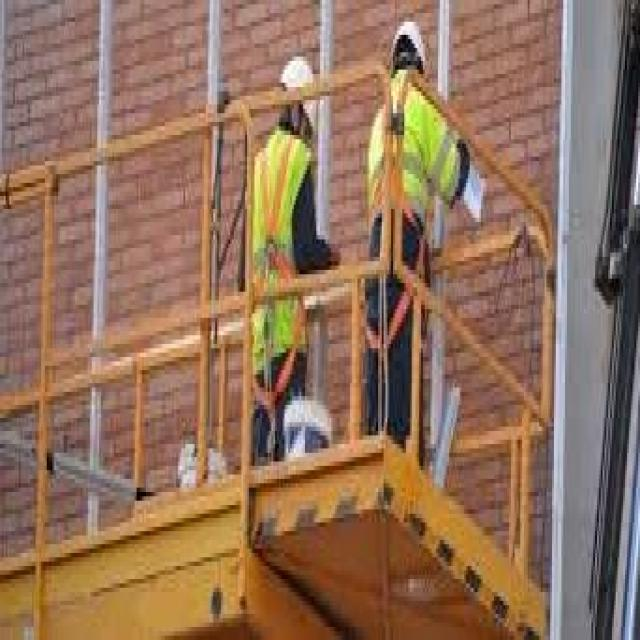Reflective-Jacket: (358, 78, 462, 296), (243, 122, 324, 374)
Safety-Helmet: (267, 39, 322, 135), (382, 5, 430, 78)
